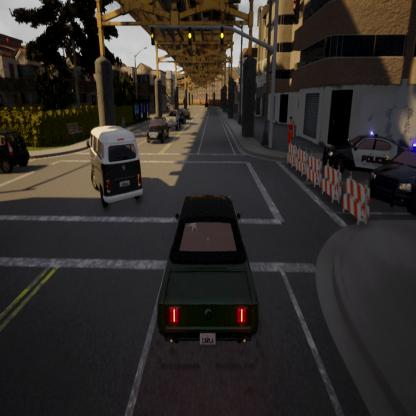Cars: (158, 192, 258, 344), (89, 125, 143, 206), (369, 139, 416, 219), (323, 132, 406, 172), (0, 129, 30, 174), (147, 117, 168, 142), (168, 107, 180, 130), (176, 110, 186, 126), (182, 108, 191, 120), (204, 102, 209, 108)
Pedestrian: (287, 114, 295, 148)
